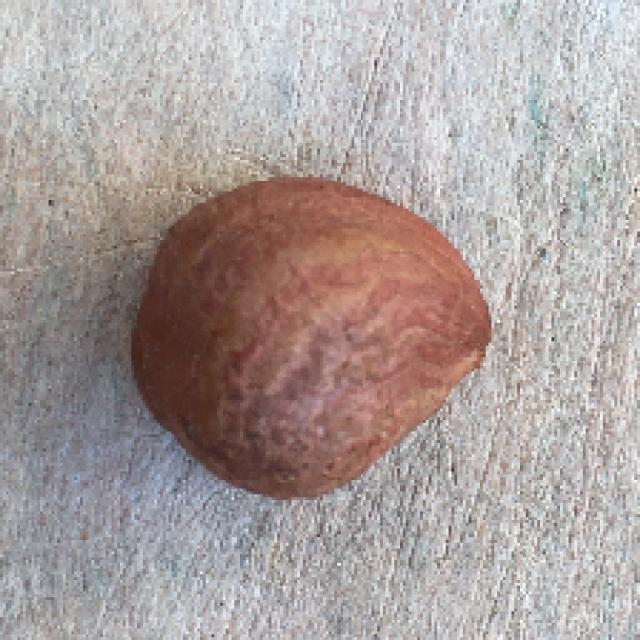hazelnut: (136, 150, 494, 494)
